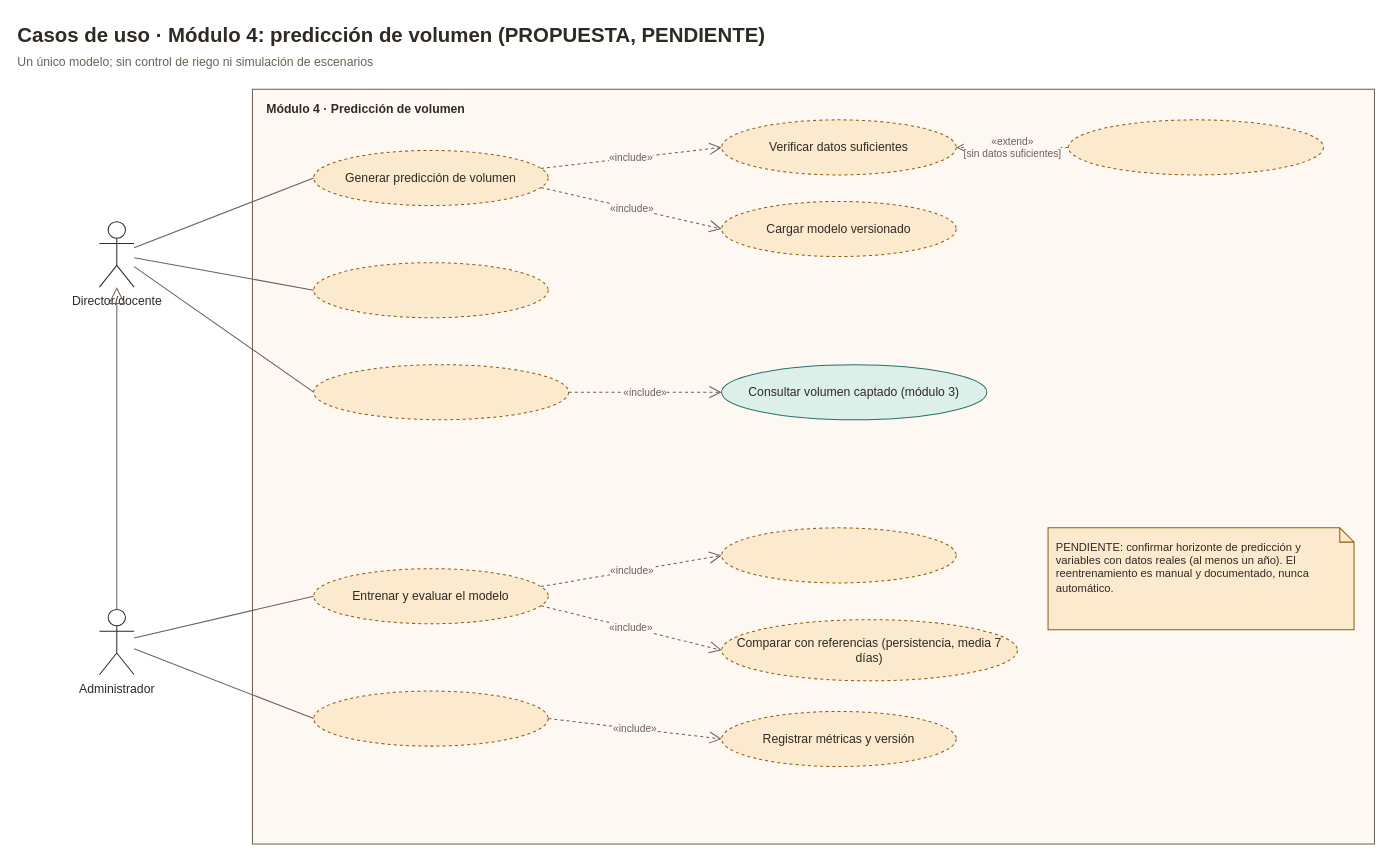
Some shapes in this 1392 by 862 pixel diagram are drawn without their labels. Each missing label, with the centre of its shape:
"Aprobar nueva versión del modelo" goes at (x=430, y=718).
"Comparar volumen real vs. estimado" goes at (x=441, y=392).
"Consultar predicciones" goes at (x=430, y=290).
"Informar «datos insuficientes»" goes at (x=1195, y=147).
"Validar con partición temporal" goes at (x=838, y=555).
